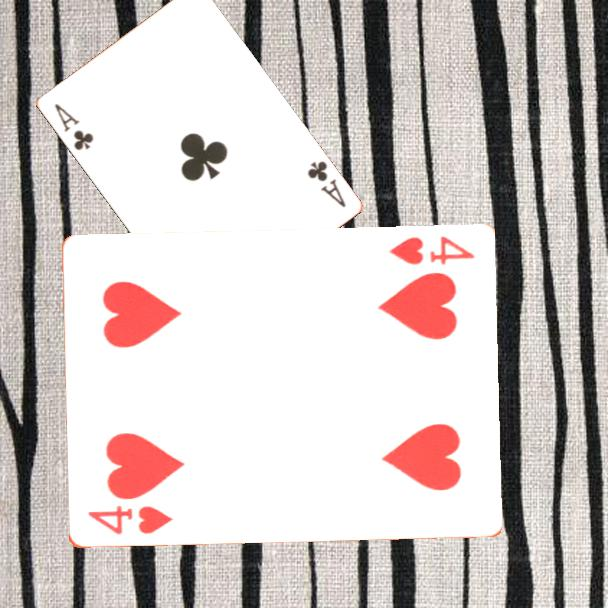c01: (50, 100, 96, 154), (303, 157, 348, 210)
h04: (83, 502, 176, 538), (385, 233, 477, 268)
